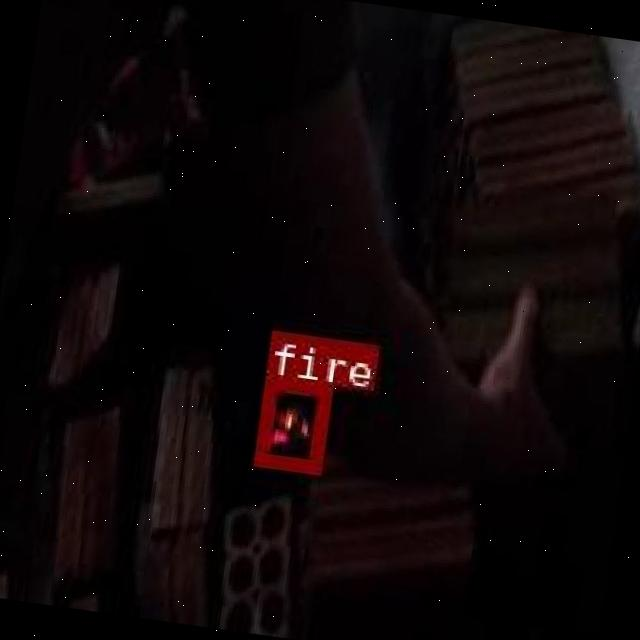fire: (252, 375, 330, 471)
